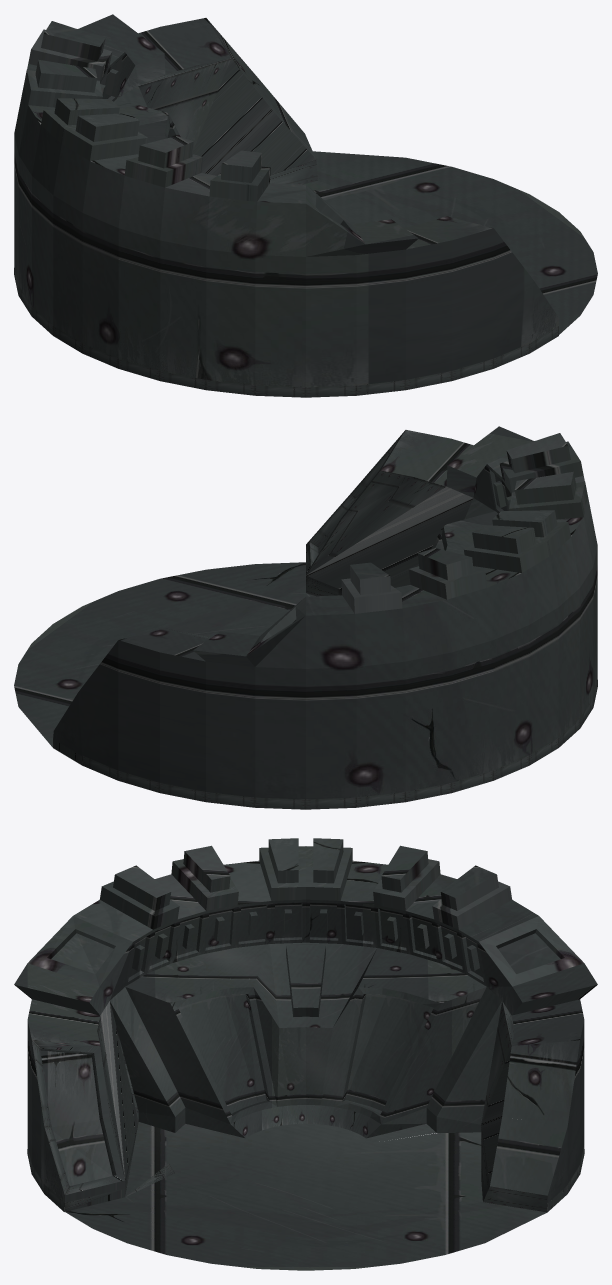
Rendered from teleporter_main.fbx.
The picture shows the model from 3 angles, top to bottom: view 1: azimuth 30°, elevation 25°; view 2: azimuth 150°, elevation 25°; view 3: azimuth 270°, elevation 25°; orthographic projection. The views are drawn at different scales.
Visible parts, largest first — view 1: Disc; view 2: Disc; view 3: Disc.
Part boxes in pixels (box(x1,y1,x2,y2)): Disc: box(14, 14, 597, 397); Disc: box(14, 426, 597, 809); Disc: box(14, 838, 597, 1270).
Bounding box in the file's own units: 205 × 85.16 × 215.
Materials: 1 (1 with a texture image).
